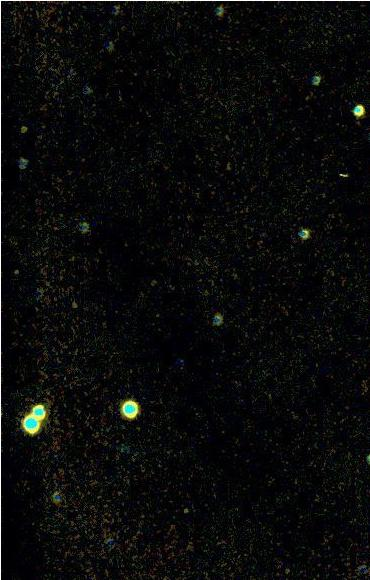star: (173, 498, 203, 528)
